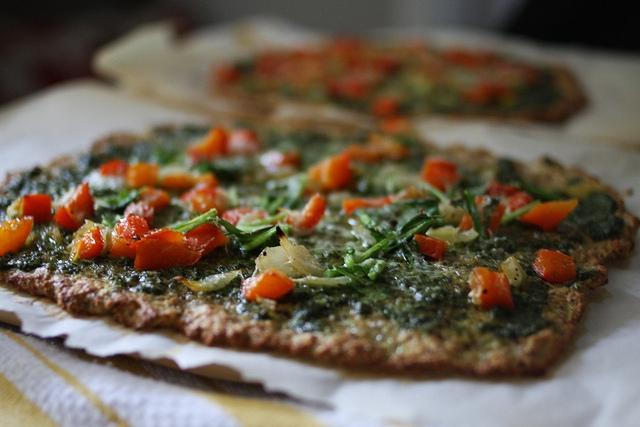onion: (276, 224, 328, 278), (254, 244, 324, 278), (172, 269, 245, 292), (68, 218, 105, 261), (425, 224, 479, 246), (500, 256, 528, 288), (84, 169, 126, 190), (384, 172, 422, 195), (438, 198, 466, 224), (288, 177, 302, 197)
